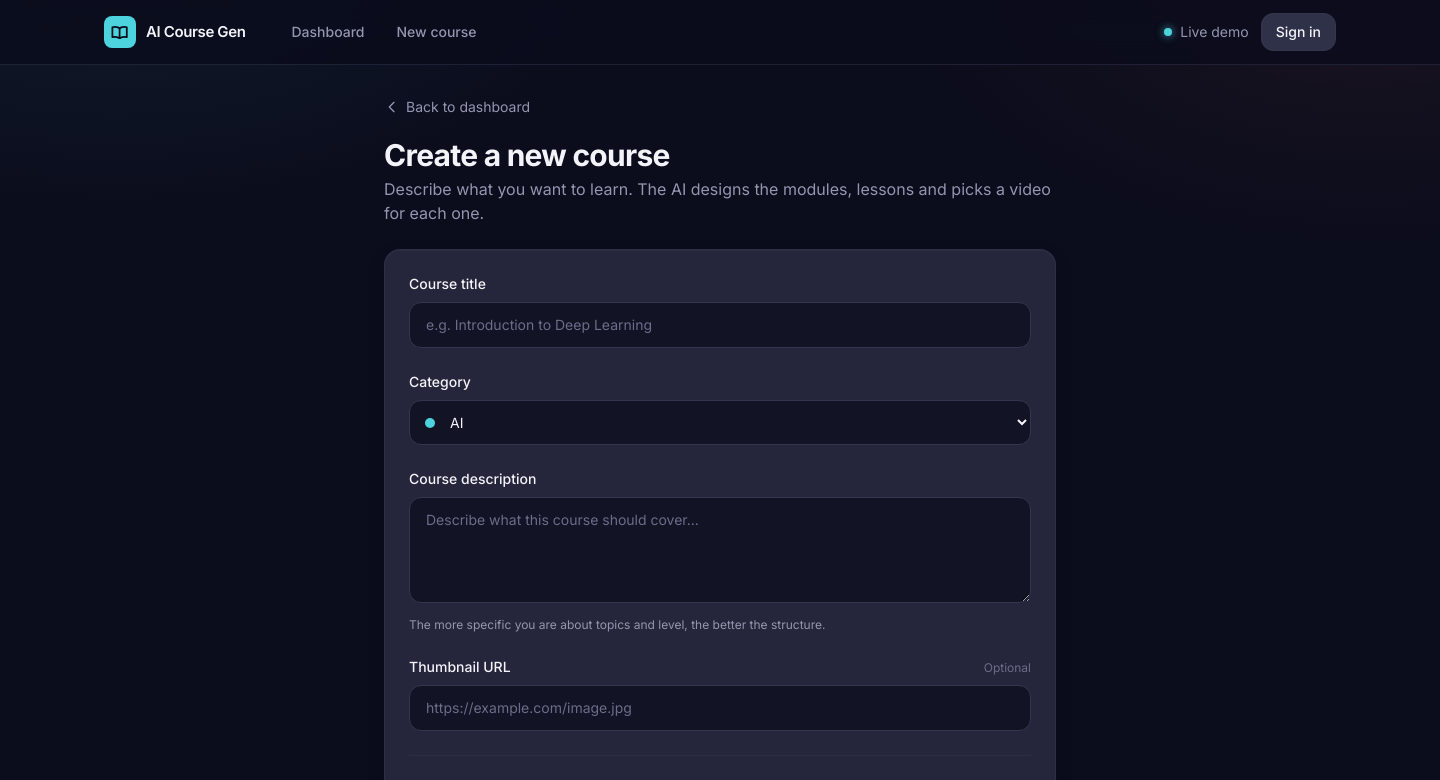
it: shows a friendly message when throttled (429)
Type "Deep Learning" into the field labelled "Course title" at (720, 325), box [409,302,1031,348]
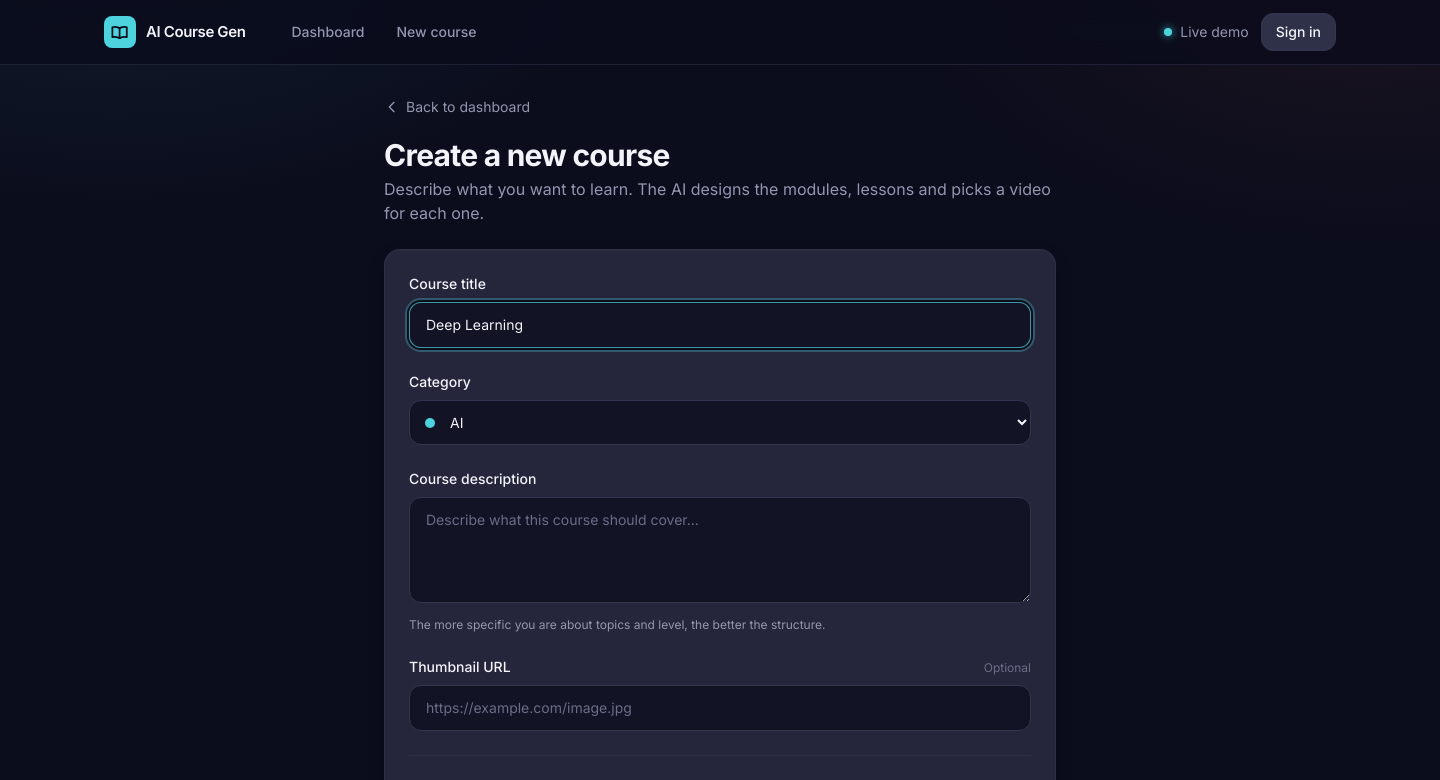
Type "Neural nets from scratch" into the text box labelled "Course description" at (720, 550), box [409,497,1031,603]
(page scrolled)
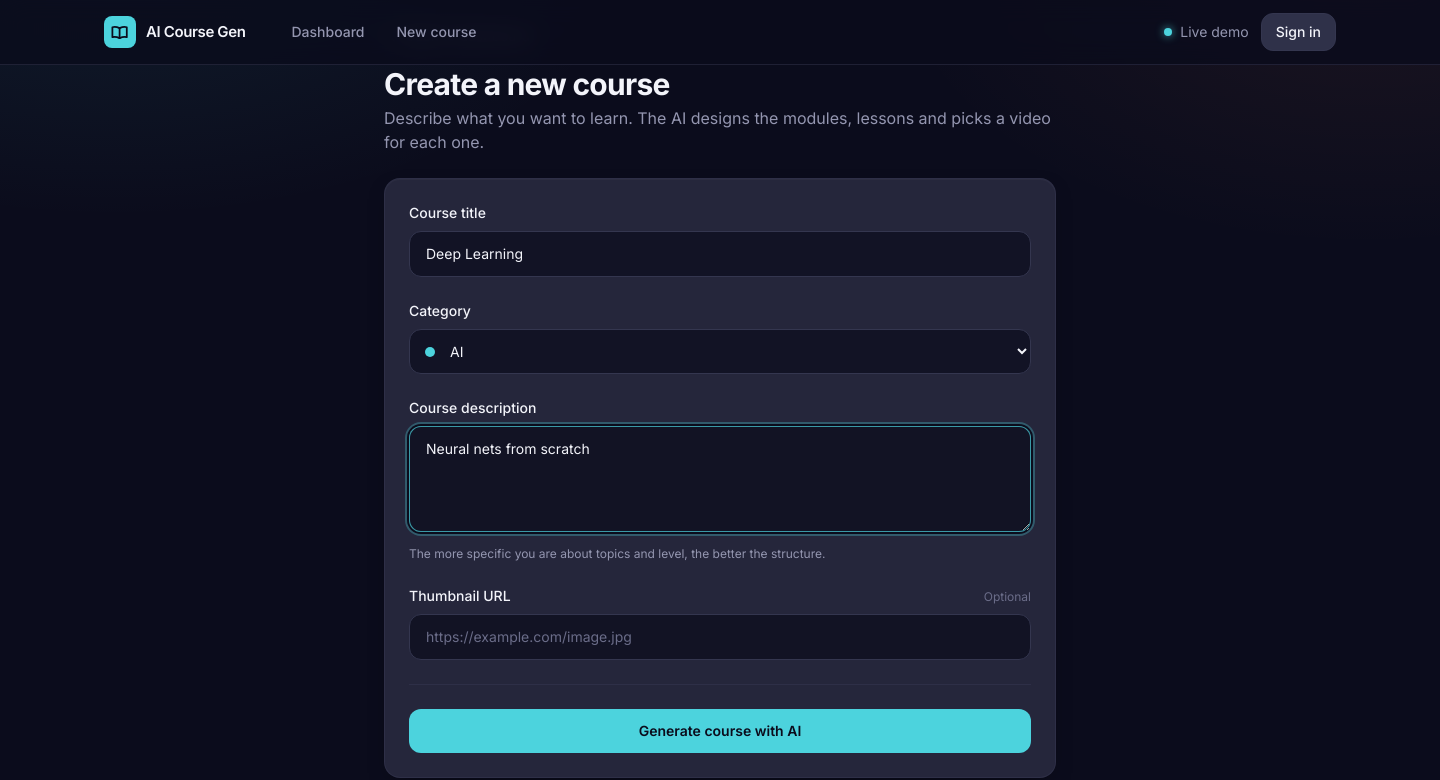
Click the button "Generate course with AI" at (720, 731), box [409,709,1031,753]
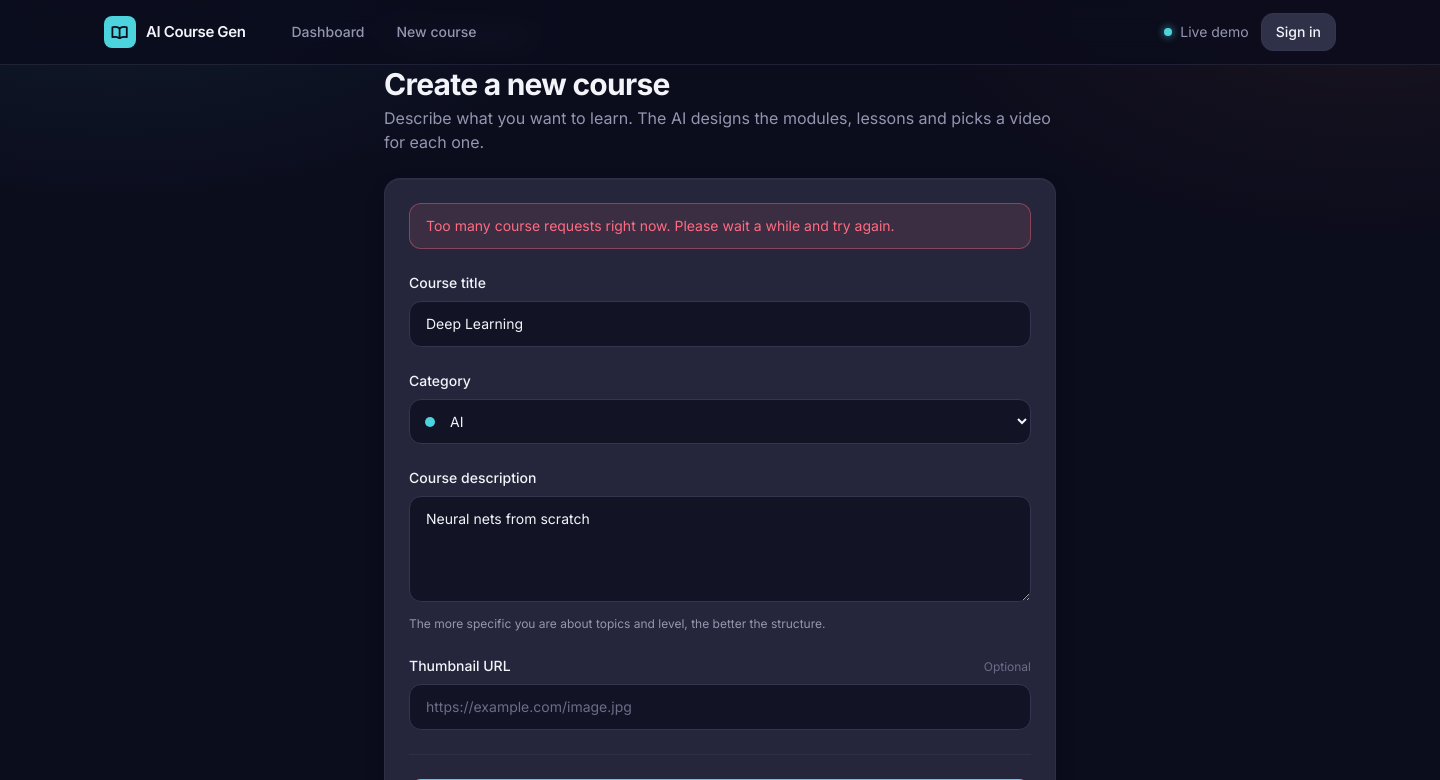
Now the text "Too many course requests right now. Please wait a while and try again." is shown, box [409,203,1031,249]
